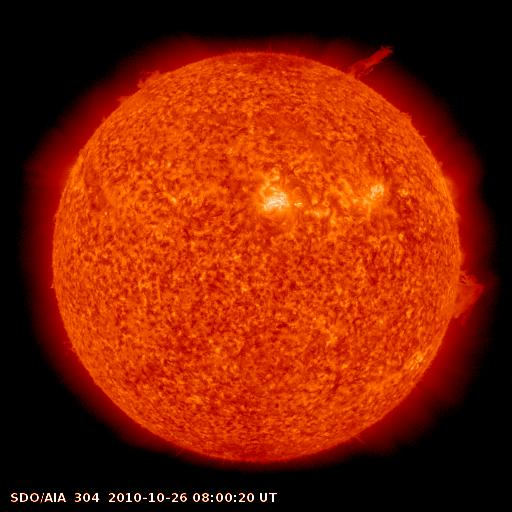prominence: (436, 255, 501, 333), (317, 37, 413, 87), (112, 59, 173, 112)
